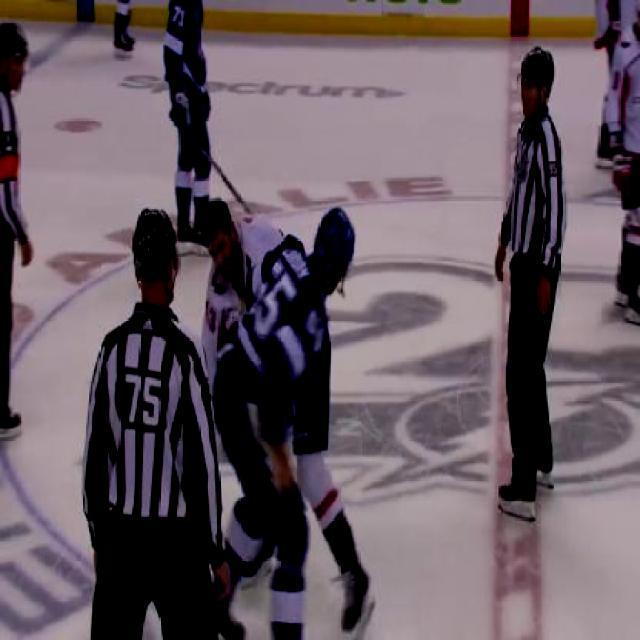fight: (200, 196, 376, 639)
non-fight: (80, 206, 225, 640), (493, 44, 567, 524)
